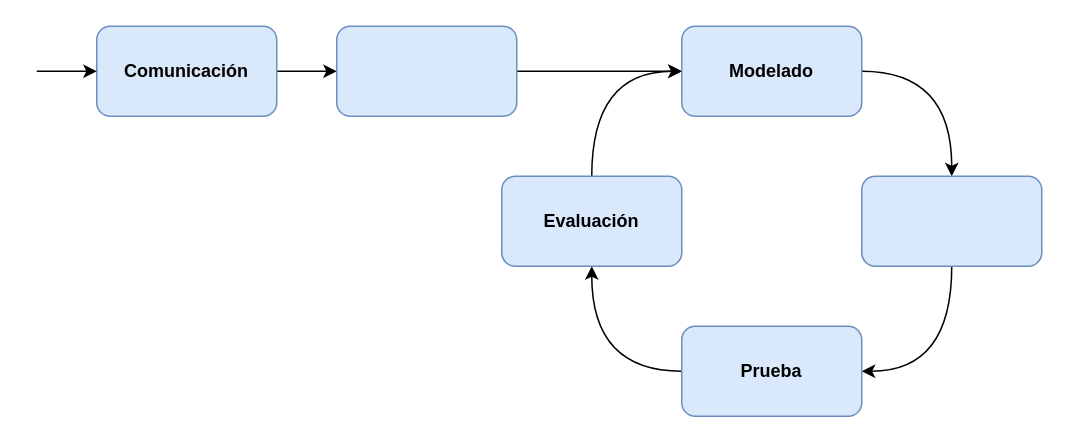
The diagram is 1068 pixels wide and 443 high, and some of its shapes have lost their labels. The shapes that lost their labels are listed below. From the top down, each one's box as (x1, y1, x2, y2) in pixels, then its label:
(335, 25, 517, 116): Planificación y análisis del problema
(860, 175, 1042, 266): Desarrollo
